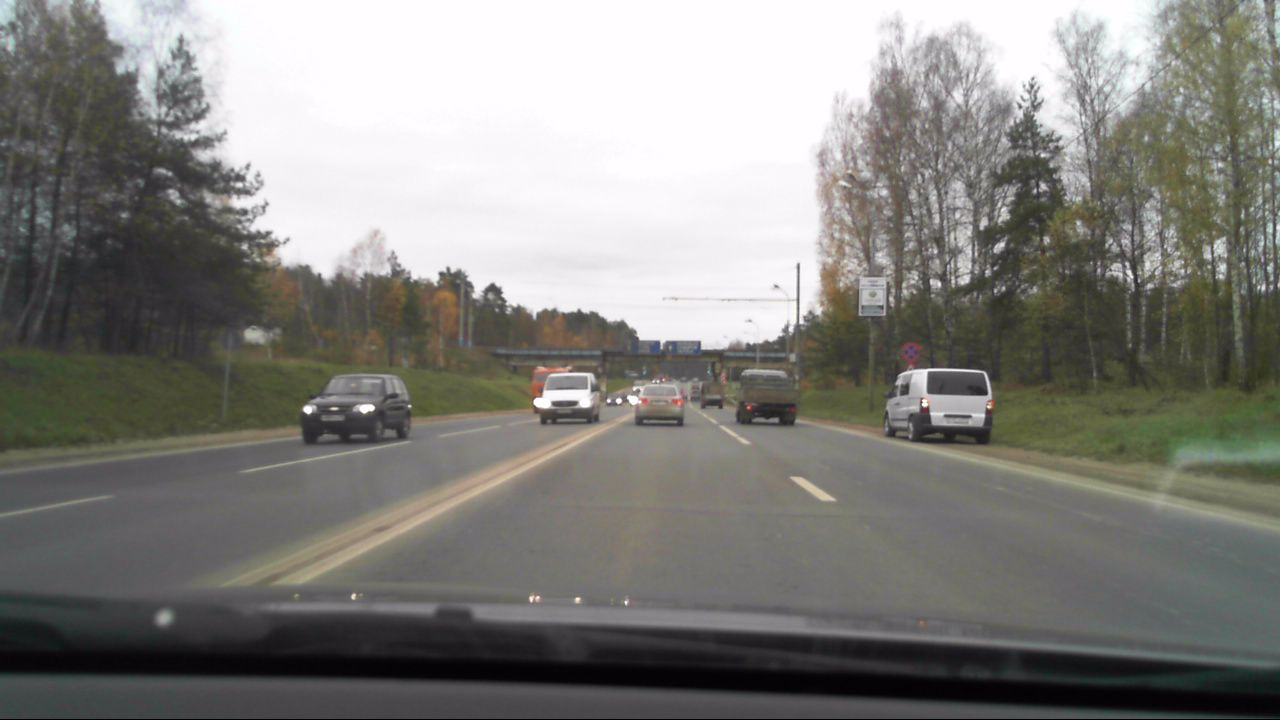No Parking: (898, 340, 926, 363)
